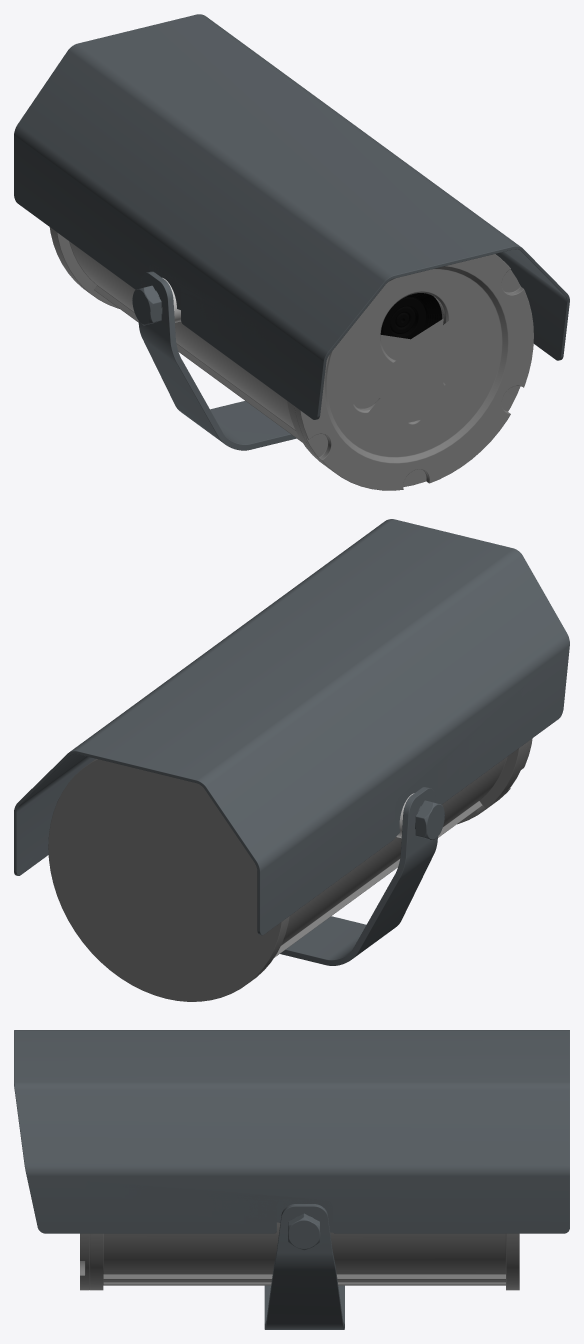
File: cam_cabeza.obj
3 renders of one model, top to bottom at view 1: azimuth 30°, elevation 25°; view 2: azimuth 150°, elevation 25°; view 3: azimuth 270°, elevation 25°, orthographic. The views are drawn at different scales.
Parts seen in each view (by area): view 1: Cylinder.223; view 2: Cylinder.223; view 3: Cylinder.223.
Part boxes in pixels (x1,y1,x2,y2): Cylinder.223: (14, 14, 569, 490); Cylinder.223: (14, 519, 569, 1001); Cylinder.223: (14, 1030, 569, 1329).
Size of the model in its own units: 4.06 by 3.67 by 7.56.
